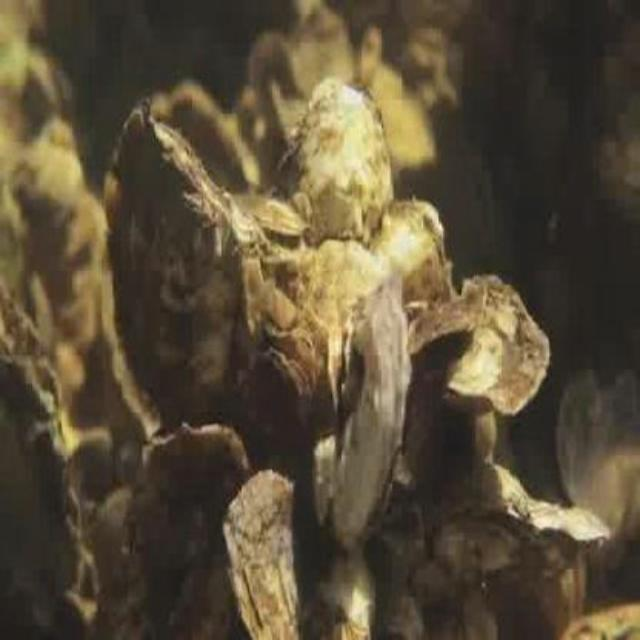Oyster-Closed: (107, 100, 282, 428), (0, 281, 97, 638), (328, 287, 409, 547), (287, 79, 396, 247), (141, 424, 250, 570), (223, 473, 318, 638), (445, 276, 551, 419), (273, 240, 394, 340), (152, 86, 247, 189), (371, 198, 456, 305), (405, 396, 499, 483), (253, 337, 320, 451), (367, 61, 434, 169), (429, 469, 530, 537), (512, 502, 616, 557), (293, 11, 356, 97), (436, 523, 518, 579), (409, 311, 473, 368), (235, 192, 304, 238), (543, 558, 587, 630), (250, 33, 297, 99), (564, 599, 638, 638), (353, 27, 381, 89), (267, 81, 289, 150)
Oyster-Open: (330, 319, 362, 420), (468, 149, 499, 239)
